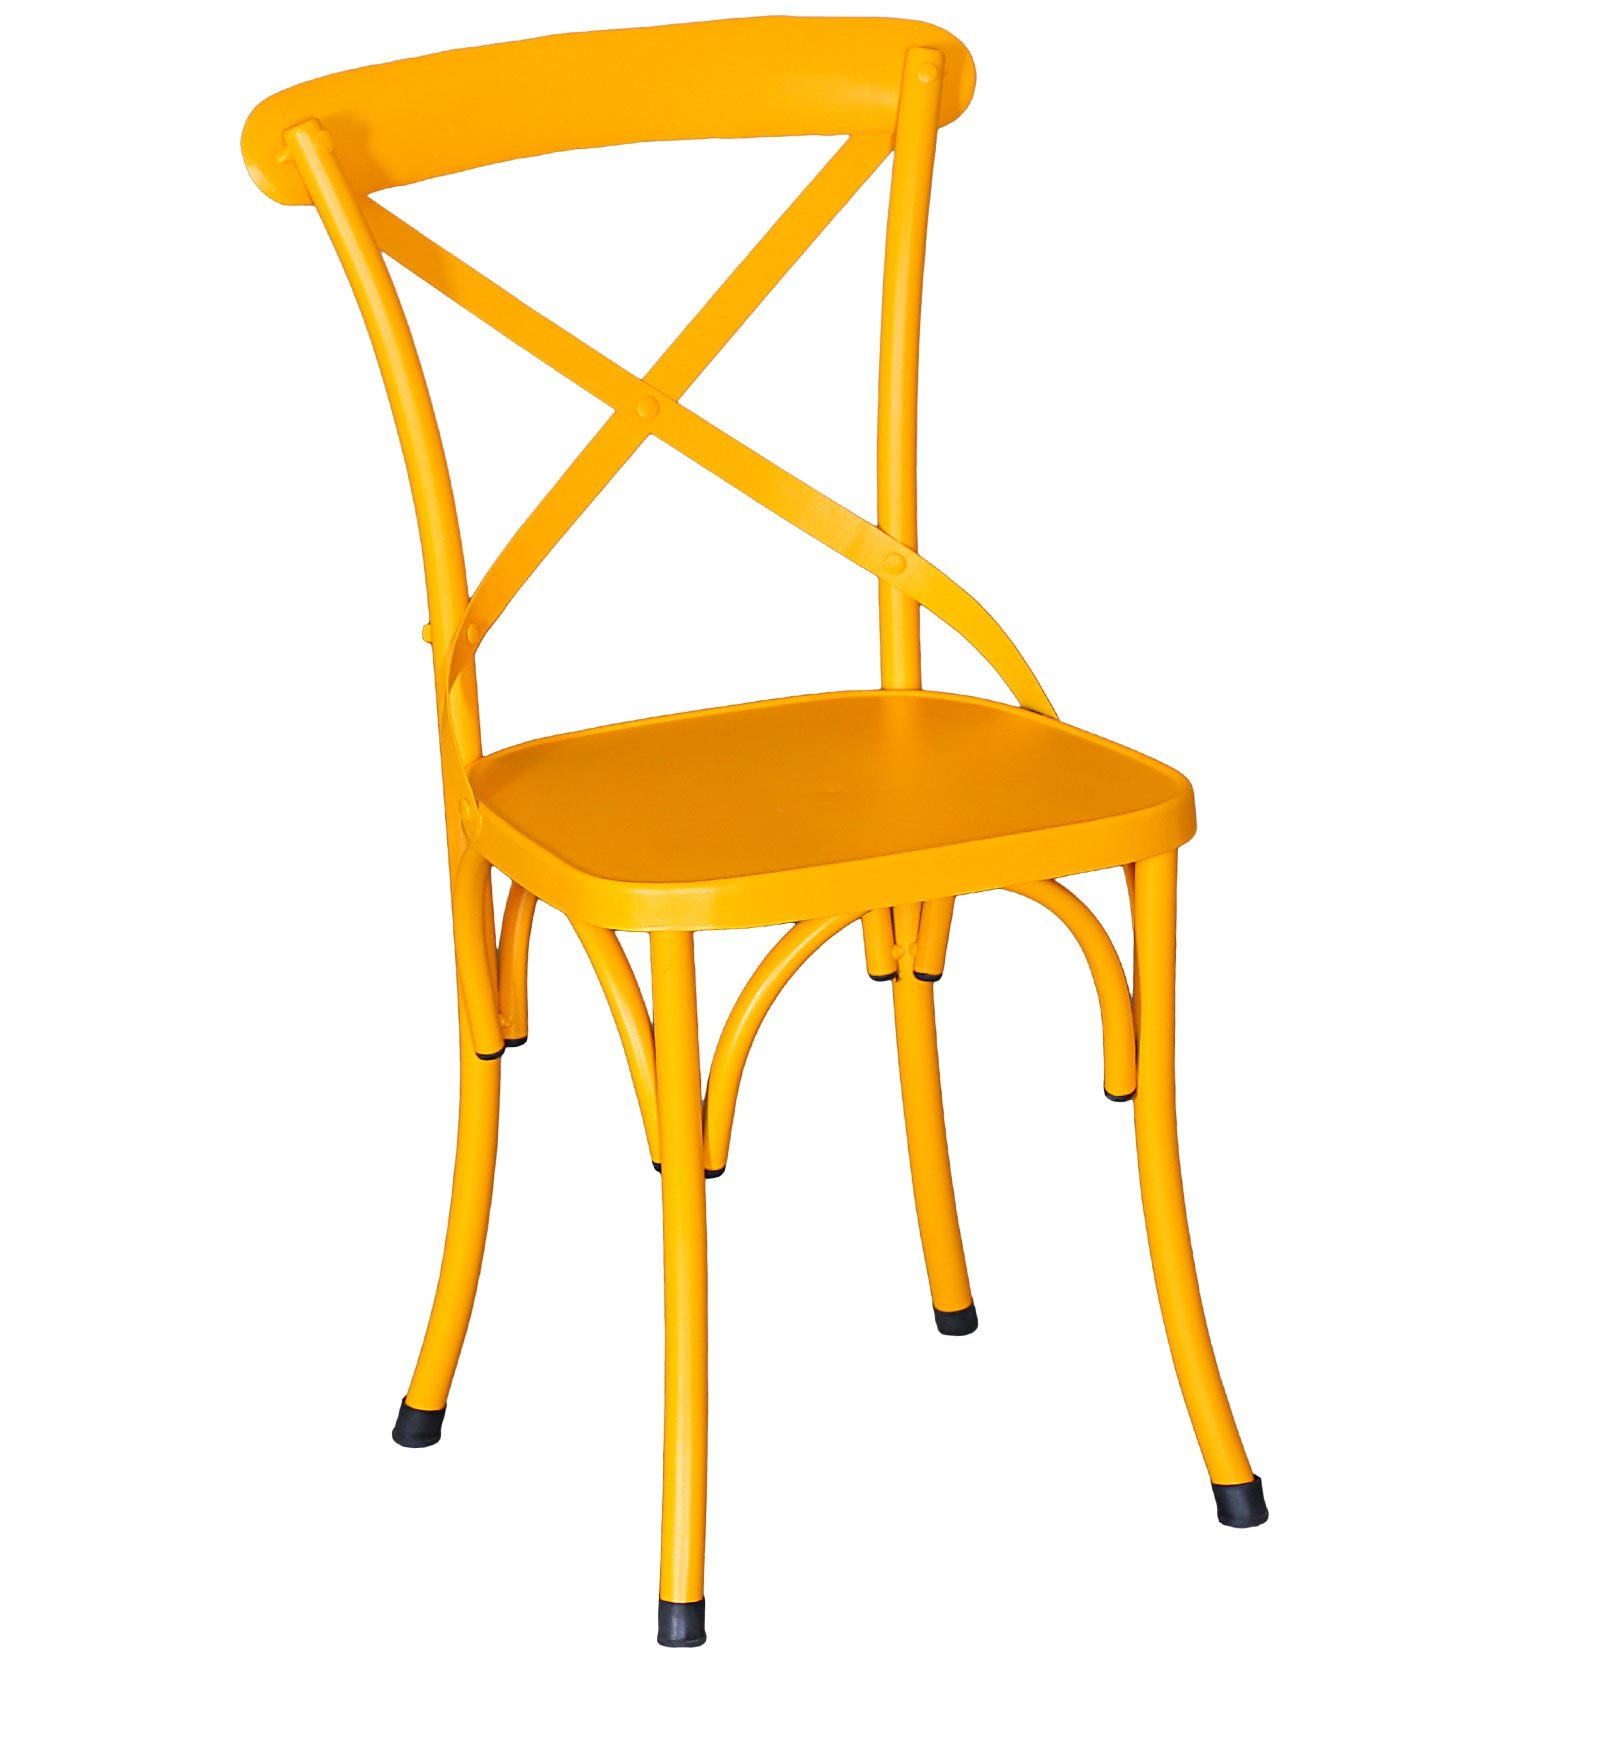Fabian Metal Chair in Yellow Color by Bohemiana: (228, 8, 1336, 1653)
